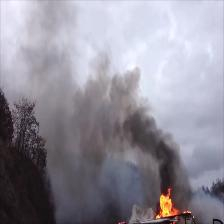fire: (158, 192, 175, 213)
smoke: (114, 95, 179, 191)
